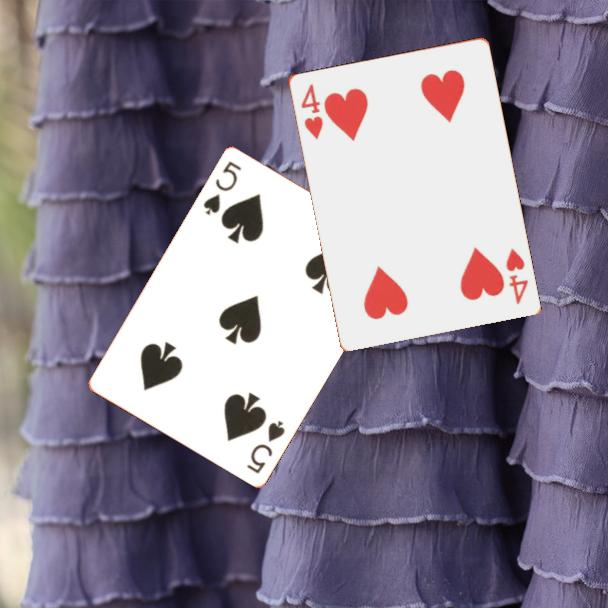h04: (297, 80, 326, 142), (502, 244, 530, 307)
s05: (243, 416, 288, 476), (200, 157, 244, 218)
